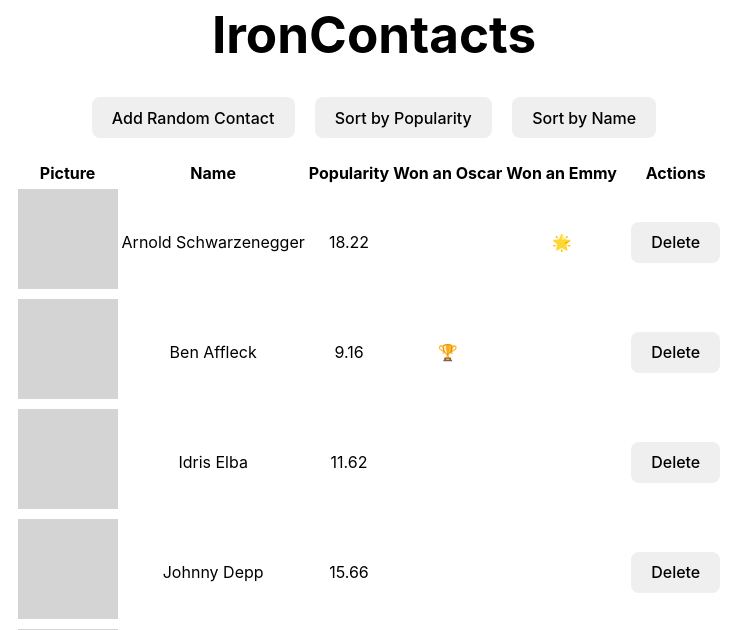
Test case: Iteration 3 | Add New Random Contacts › App component › adds a random contact to the list when the 'Add Random Contact' button is clicked
The width and height of the screenshot is (748, 630).
Click the button "Add Random Contact".
click(193, 118)  # box x1=92 y1=97 x2=295 y2=138
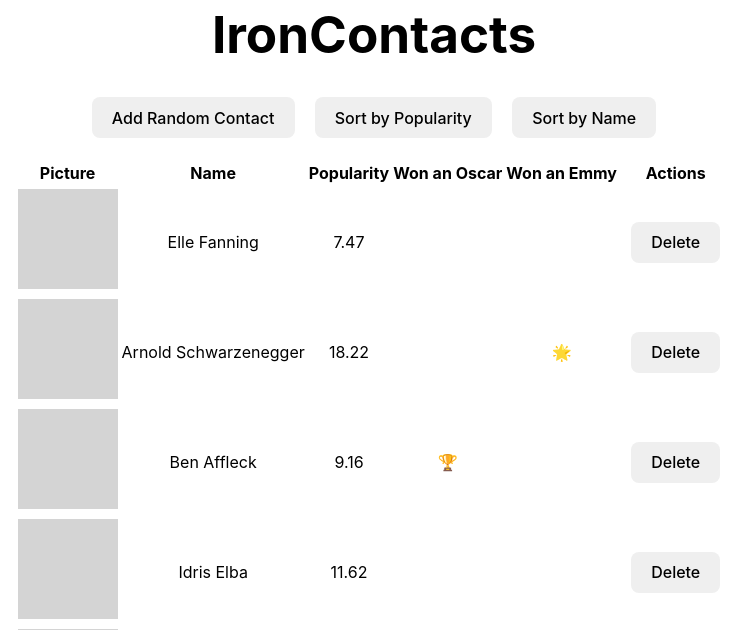
Result: the number of rows is 7
